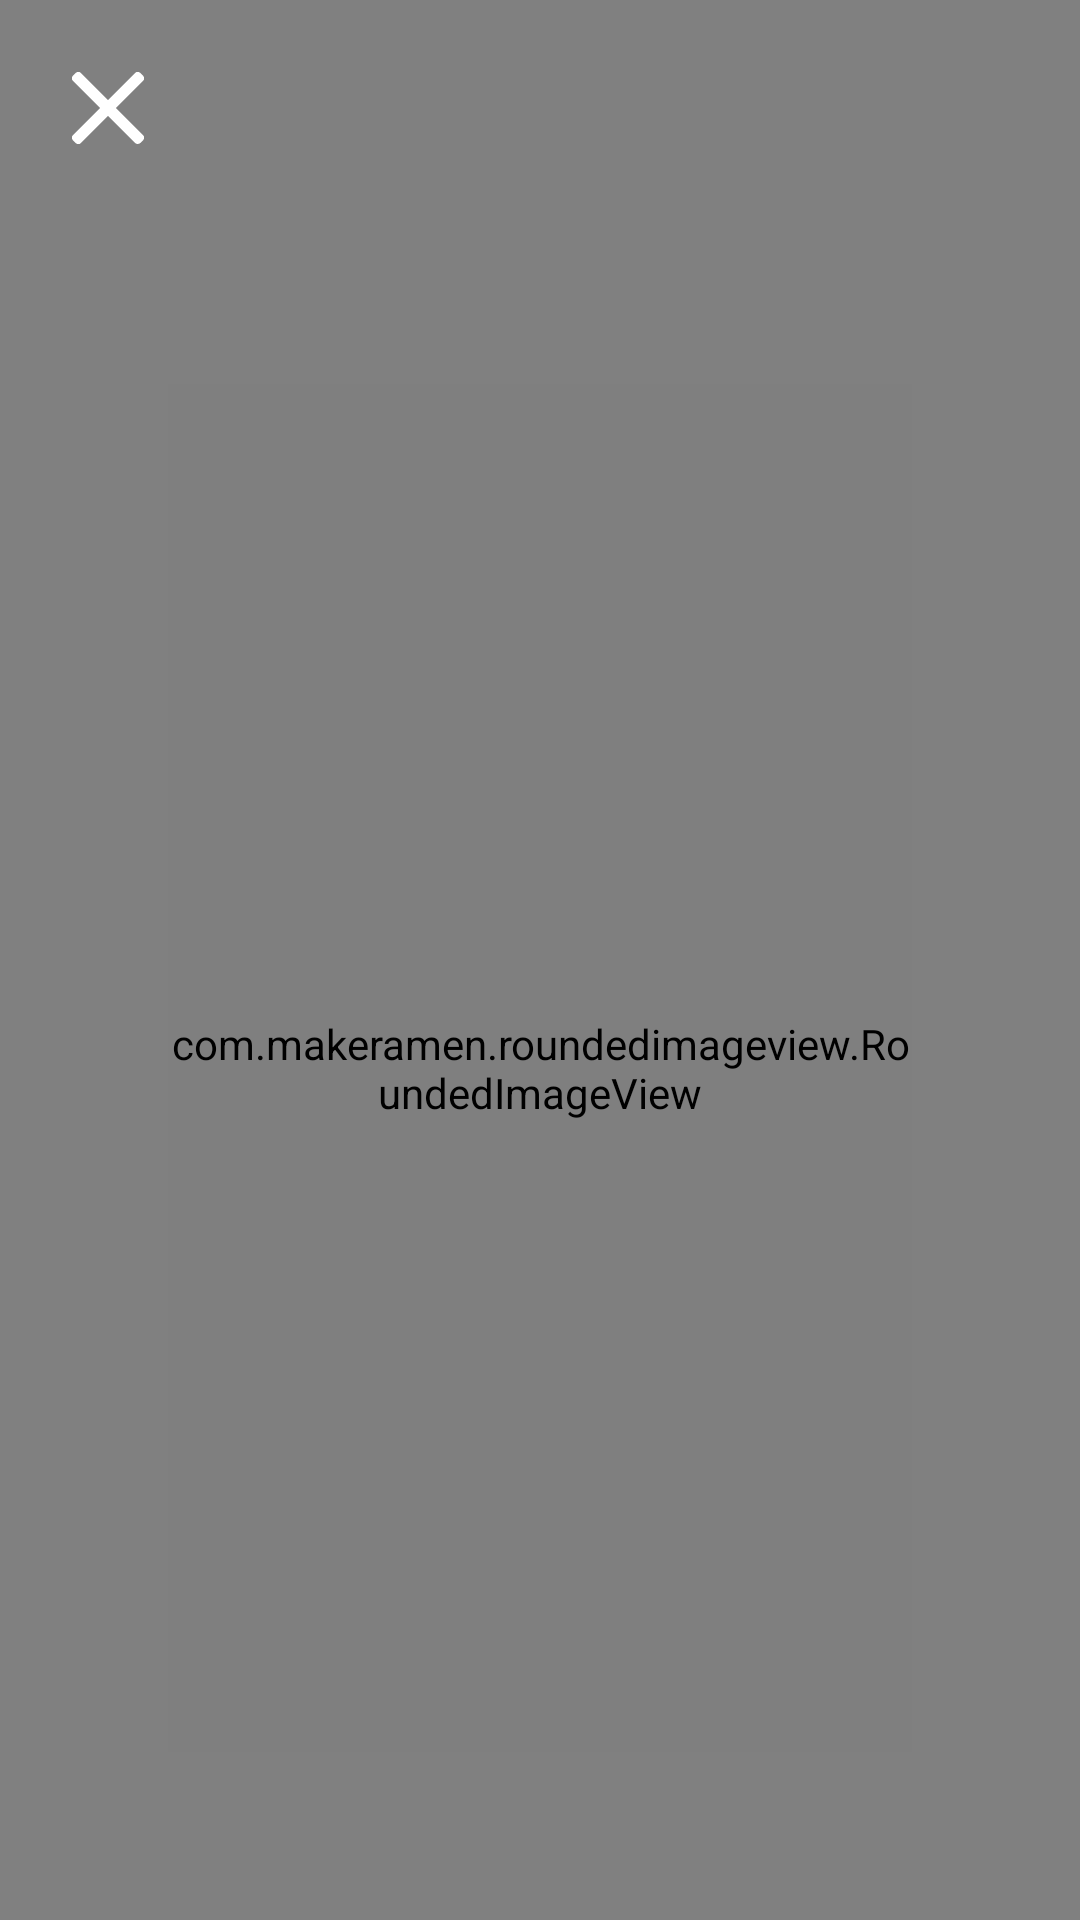

Locate icon controls on the screen. Image size 1080w x 1920h, boxes as (x1,y1,x2,y2).
cancel: (72,72,144,144)
